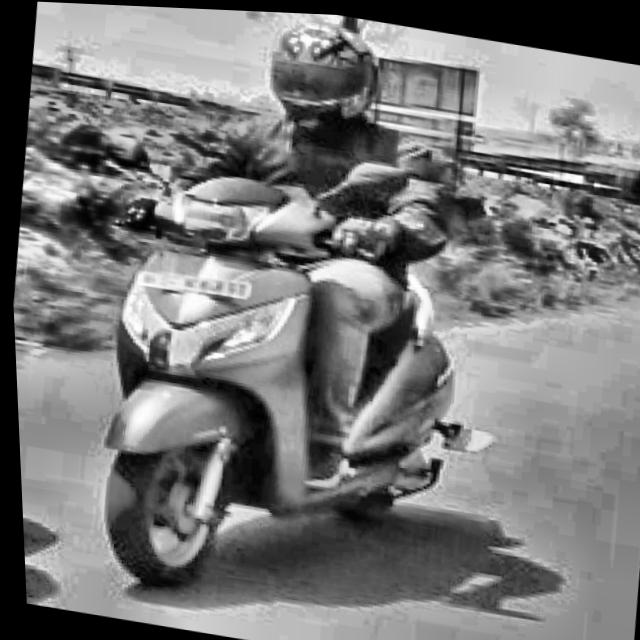motorcycle: (30, 99, 517, 640)
